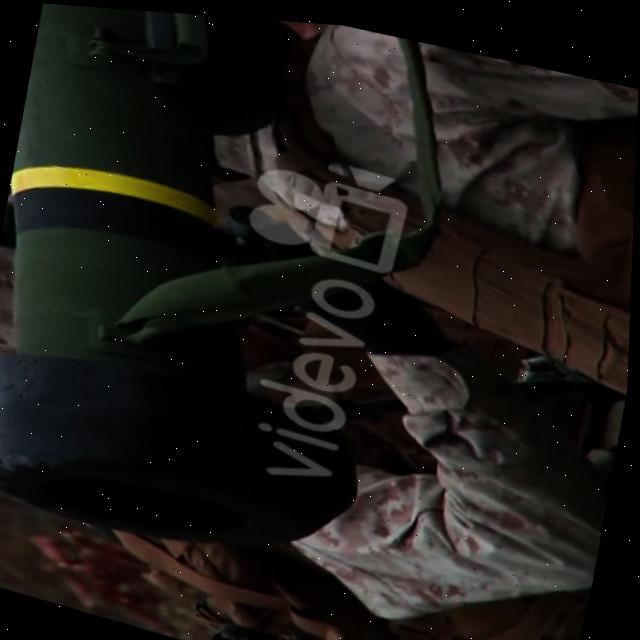rocket: (0, 0, 457, 597)
